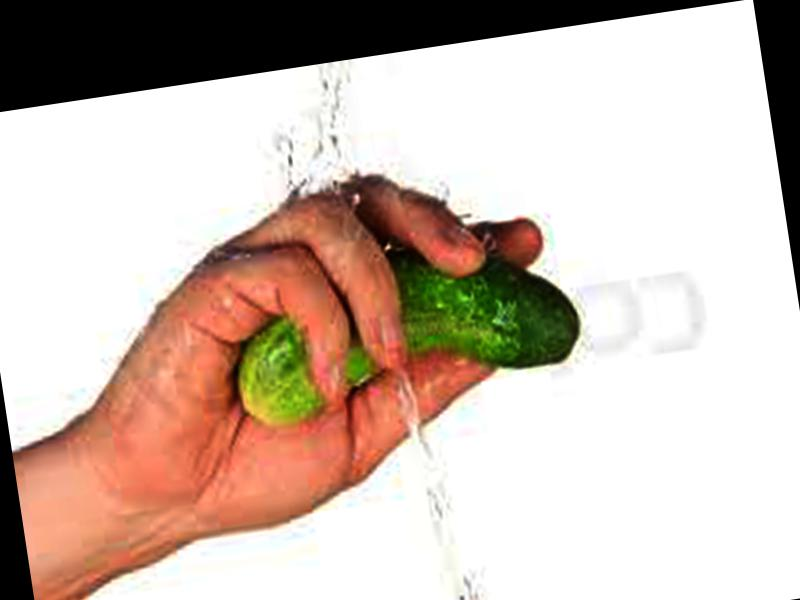Cucumber: (224, 235, 588, 426)
